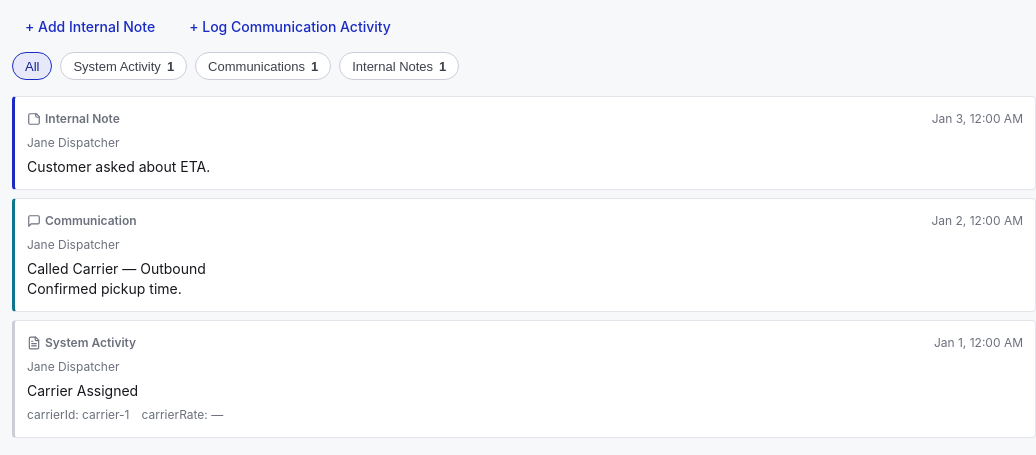
ActivityHistoryTab — Frontend Phase 7 (UI_UX_DESIGN.md §5.4.4, LD-6) › narrows the timeline when a filter chip is clicked, and shows correct counts
Expected: the text "Jane Dispatcher" is shown 3 times, [27,135,119,150]; [27,237,119,252]; [27,359,119,374]
Click the button "Internal Notes 1" at (399, 66), box [339,52,459,80]
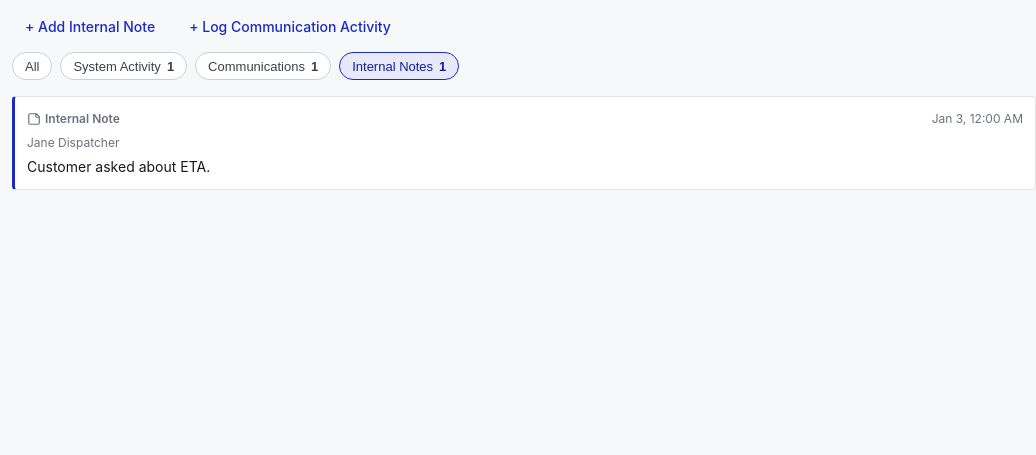
Expected: the text "Customer asked about ETA." is shown, [27,158,210,175]
Expected: the text "Confirmed pickup time." is gone
Expected: the text "Carrier Assigned" is gone
Clicking the active chip again resets to "All" (matches the Dispatch Board toggle convention).
Click the button "Internal Notes 1" at (399, 66), box [339,52,459,80]
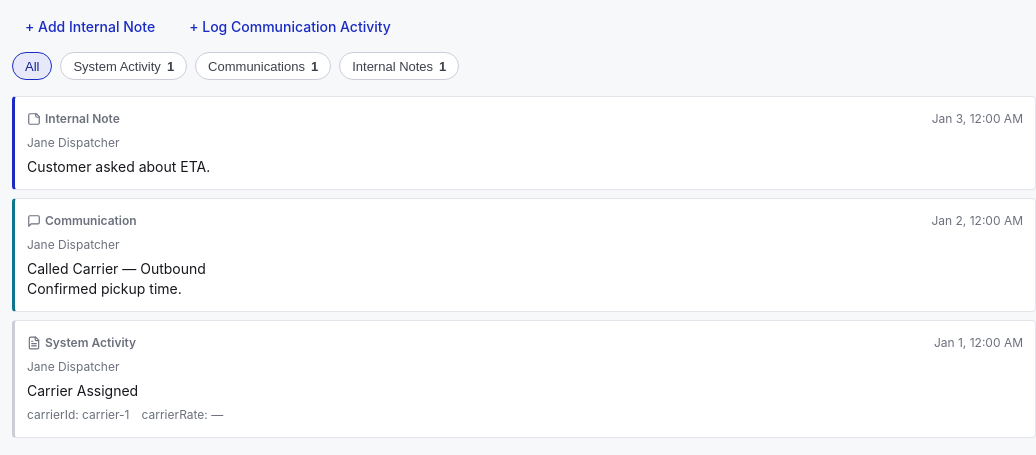
Expected: the text "Confirmed pickup time." is shown, [27,280,182,297]
